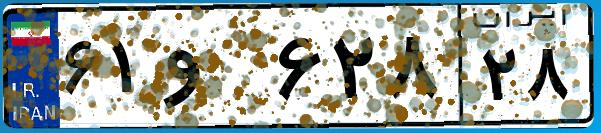1: (110, 28, 158, 98)
2: (330, 28, 385, 110), (475, 38, 525, 113)
6: (270, 28, 330, 110), (57, 26, 110, 100)
8: (385, 28, 445, 110), (525, 38, 570, 115)
و: (158, 20, 270, 120)
